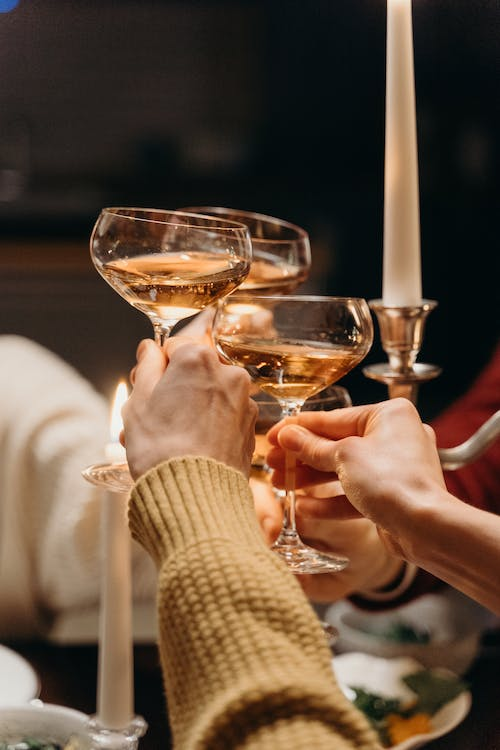alcohol: (79, 204, 254, 496), (211, 292, 376, 576), (158, 203, 314, 312)
